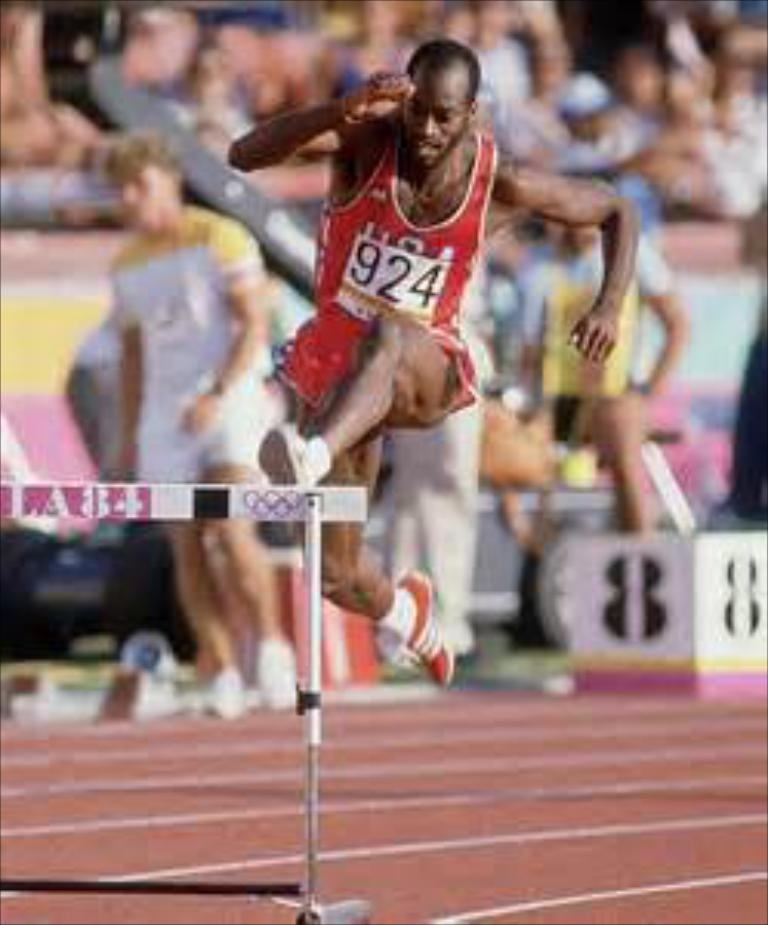Person: (0, 0, 768, 723)
